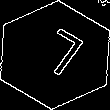L_SW: (25, 26, 85, 84)
